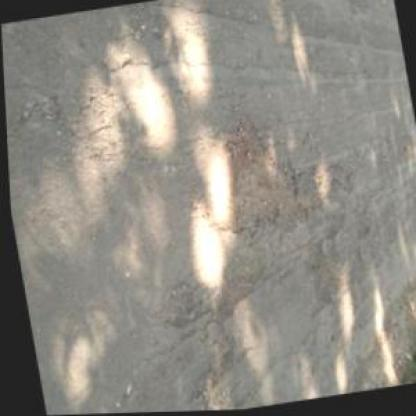pothole: (180, 105, 312, 244)
